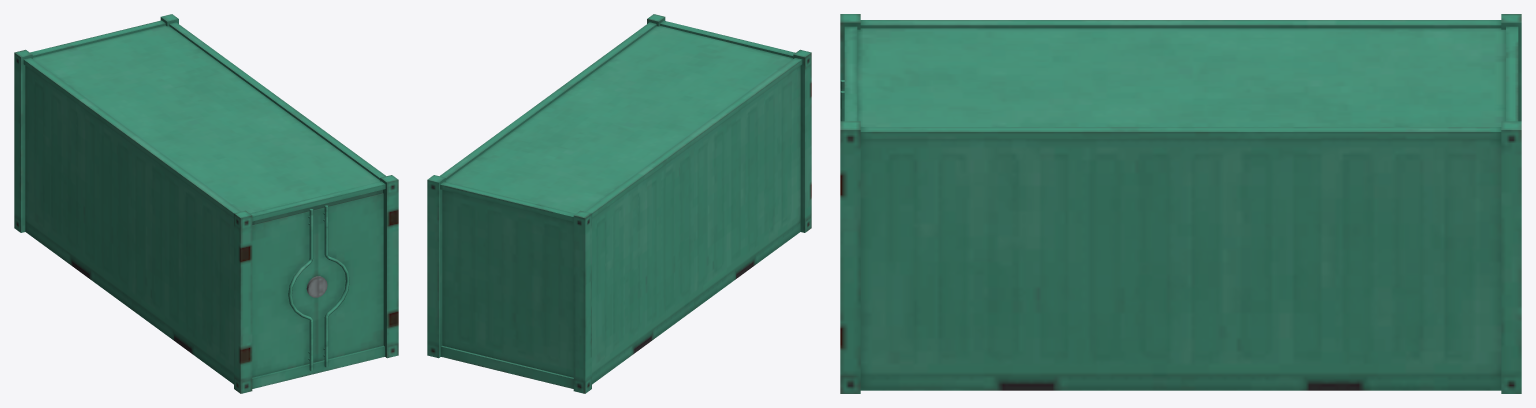
Rendered from objects_un_t05container04.gltf.
3 views of the same model, side by side, from view 1: azimuth 30°, elevation 25°; view 2: azimuth 150°, elevation 25°; view 3: azimuth 270°, elevation 25° (orthographic). The views are drawn at different scales.
Parts seen in each view (by area): view 1: container01_shape:objects_un_t05container04_obj01; view 2: container01_shape:objects_un_t05container04_obj01; view 3: container01_shape:objects_un_t05container04_obj01.
Part boxes in pixels (box(x1,y1,x2,y2)): container01_shape:objects_un_t05container04_obj01: box(14, 14, 398, 393); container01_shape:objects_un_t05container04_obj01: box(427, 14, 811, 393); container01_shape:objects_un_t05container04_obj01: box(840, 14, 1521, 393).
Size of what is drawn, in the model's own units: 2.44 by 2.59 by 6.06.
Materials: 1 (1 with a texture image).
